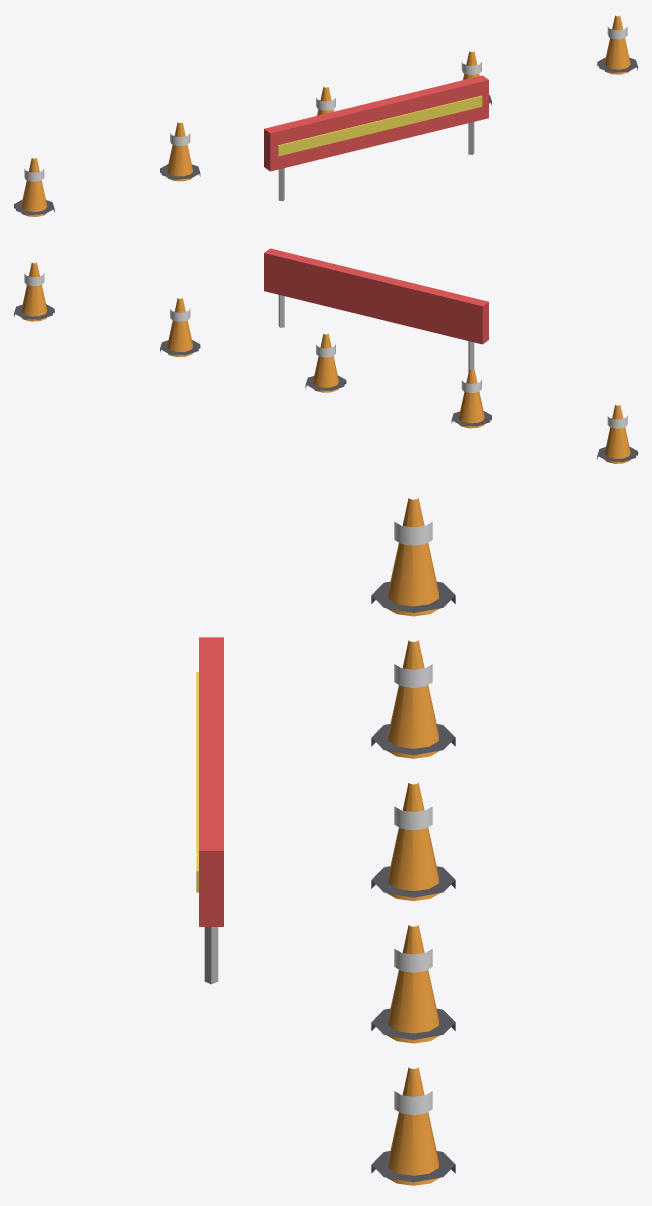
The model's file is nanamagari_cone_barrier_set.glb.
3 views of the same model, one above another, from view 1: azimuth 30°, elevation 25°; view 2: azimuth 150°, elevation 25°; view 3: azimuth 270°, elevation 25° (orthographic). The views are drawn at different scales.
Visible parts, largest first — view 1: nanamagari_cone_barrier_set; view 2: nanamagari_cone_barrier_set; view 3: nanamagari_cone_barrier_set.
Boxes of the visible parts, <box> form: nanamagari_cone_barrier_set: <box>14,15,637,216</box>; nanamagari_cone_barrier_set: <box>14,248,637,463</box>; nanamagari_cone_barrier_set: <box>196,498,455,1185</box>.
Size of the model in its own units: 8.5 by 0.95 by 1.54.
